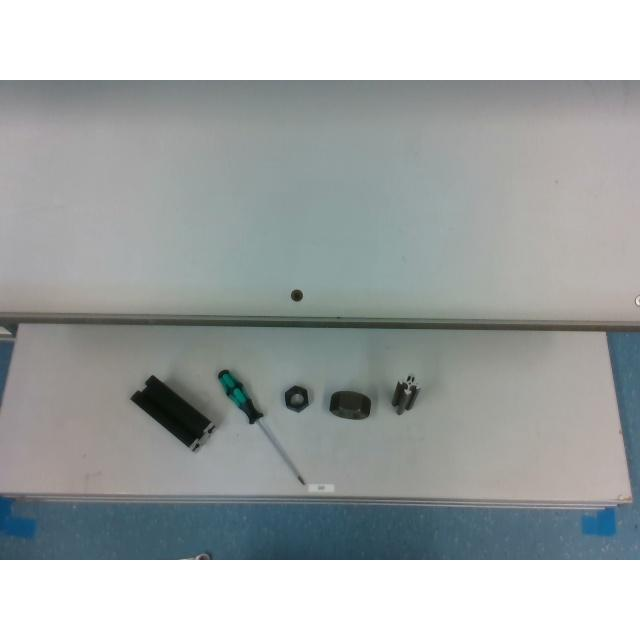F20_20_B: (391, 374, 419, 414)
M20: (284, 386, 308, 410)
M30: (330, 391, 370, 419)
S40_40_B: (131, 375, 215, 451)
Screwdriver: (216, 369, 308, 485)
